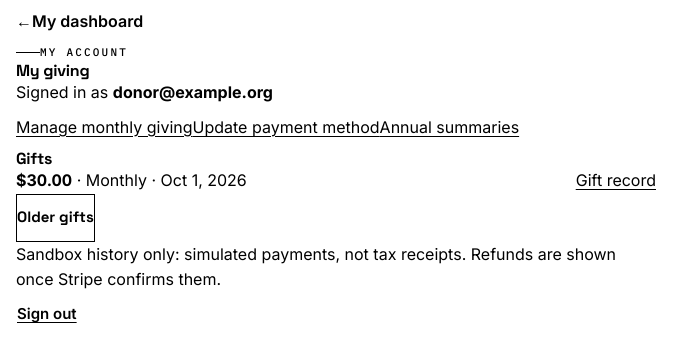
it: moves focus to the start of the new page of gifts
Click the button "Older gifts".
click(55, 218)  # box [16,194,95,242]
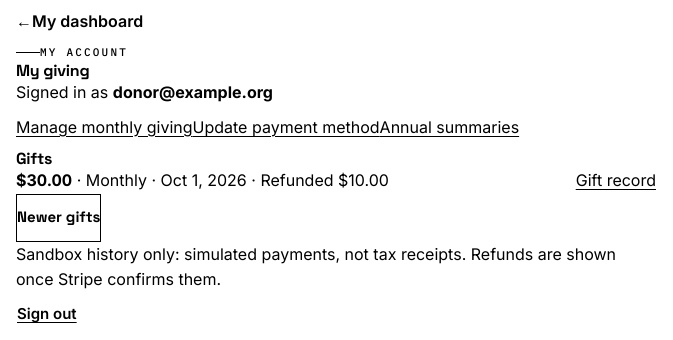
Result: the button "Newer gifts" is shown at [16,194,102,242]
Result: the text "$30.00 · Monthly · Oct 1, 2026 · Refunded $10.00" is shown at [16,170,389,190]
